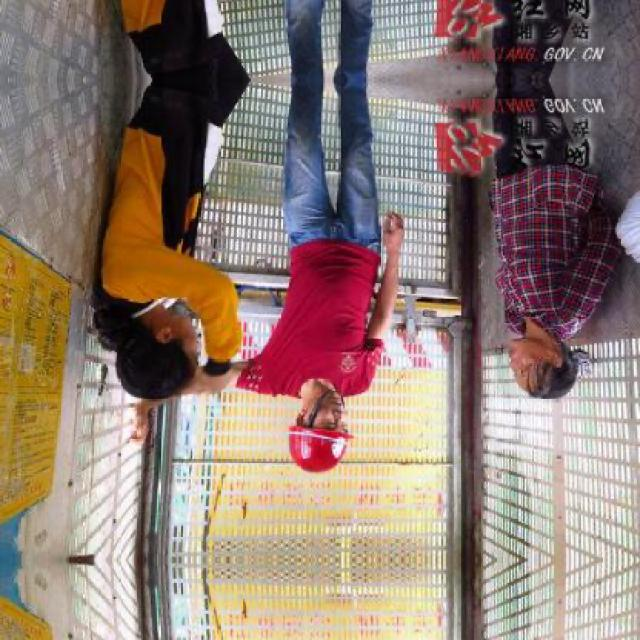con casco: (287, 380, 378, 488)
sin casco: (77, 240, 228, 409), (472, 306, 596, 406)
